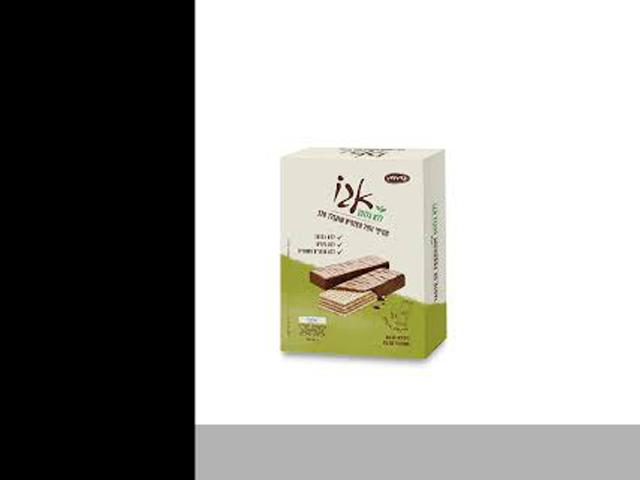chocolate: (259, 141, 457, 369)
